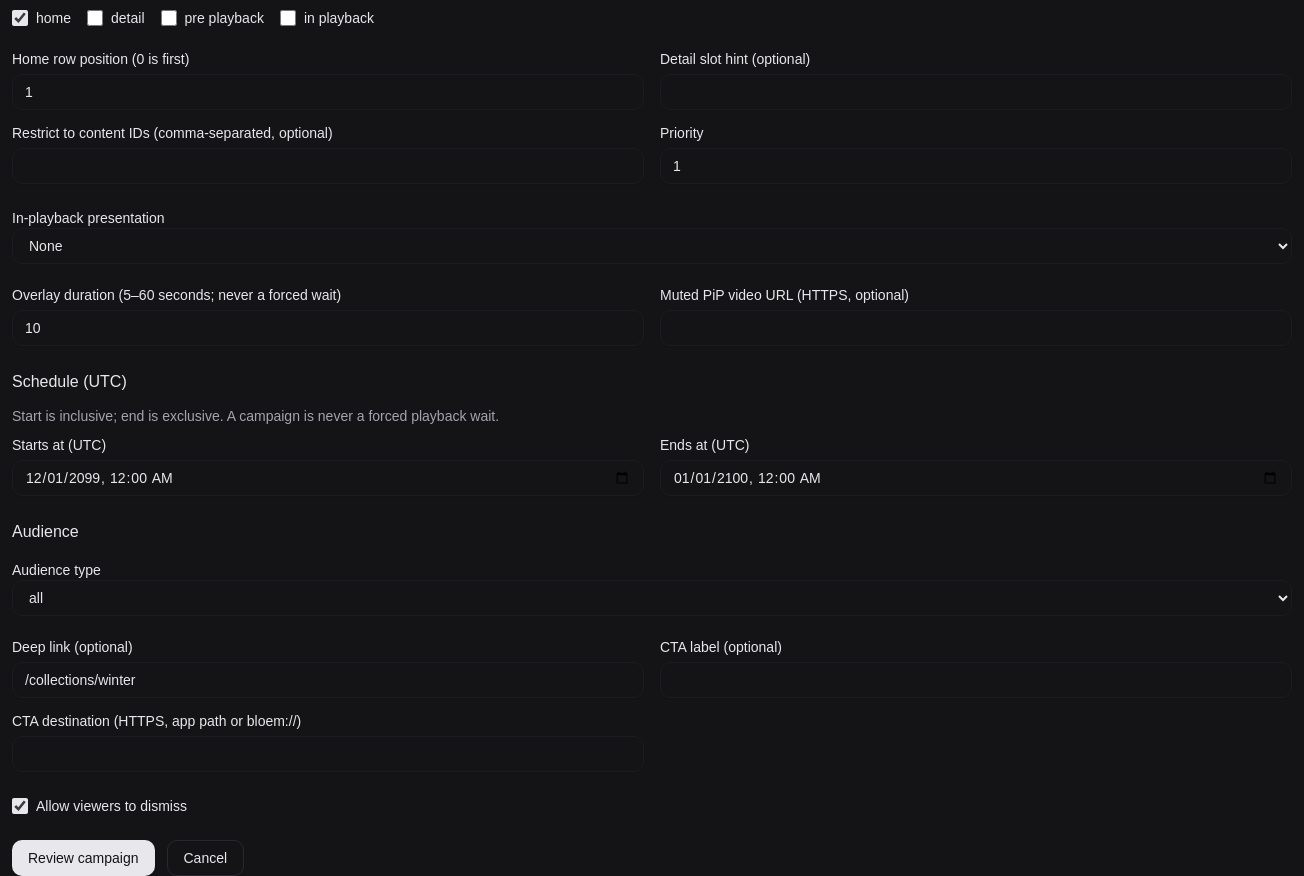
Test case: typed campaign authoring › invalidates review after changing the draft and forbids non-dismissible overlays
(page scrolled)
Step 1. Click the button "Review campaign" → (83, 858), box left=12, top=840, right=154, bottom=875
(page scrolled)
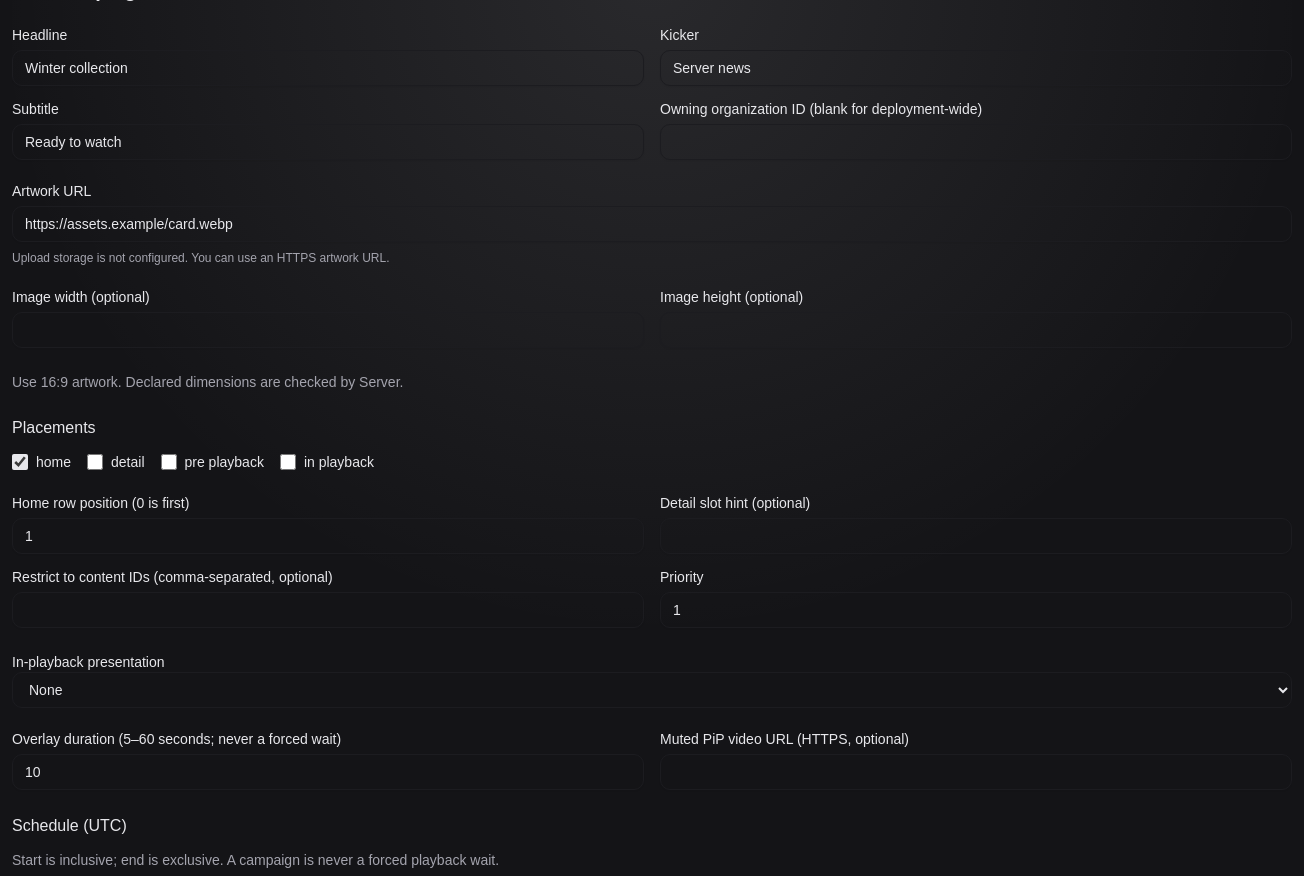
Step 2. Replace the text in the field labelled "Headline" with "Updated" → (328, 68), box left=12, top=50, right=644, bottom=86
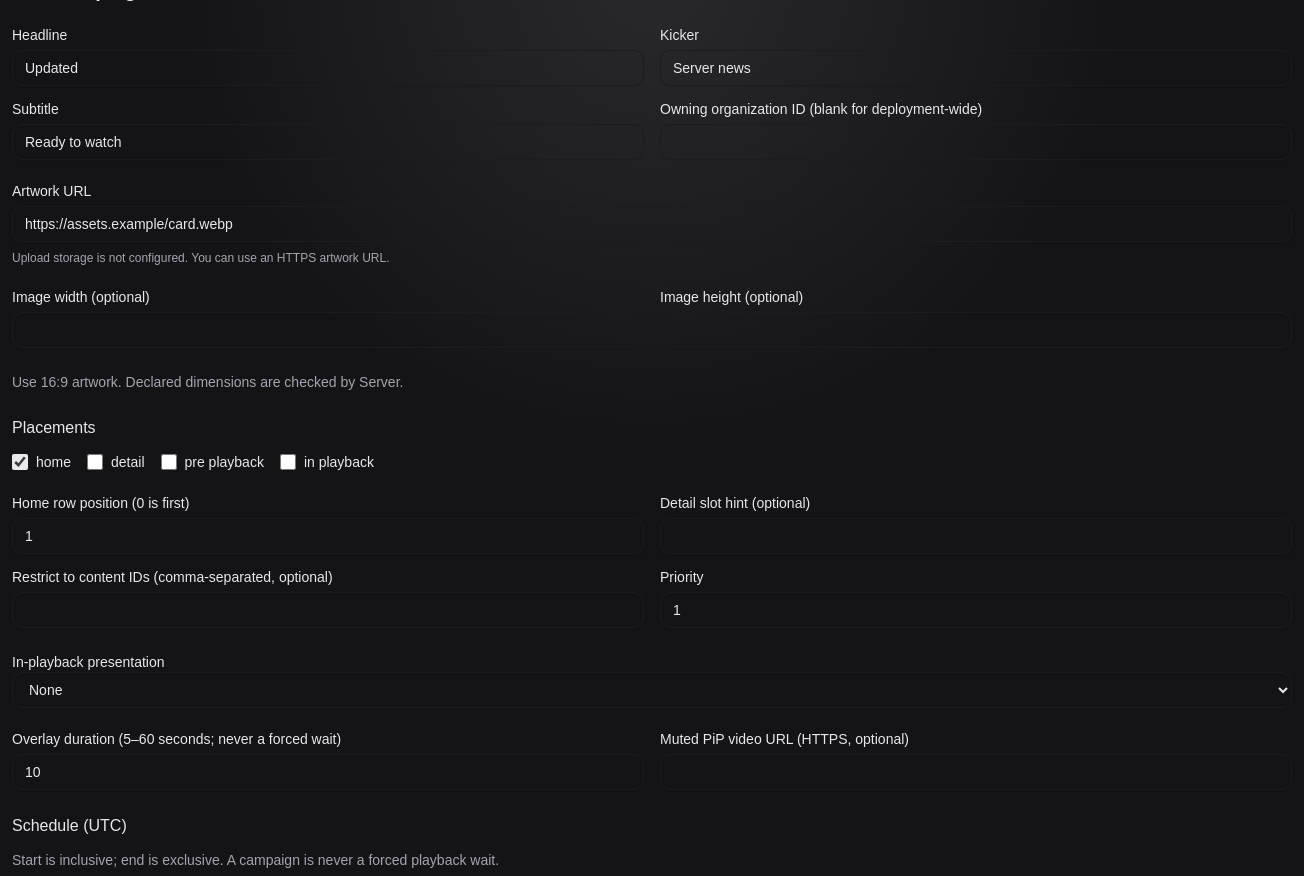
Step 3. Click the checkbox labelled "in playback" → (288, 462), box left=280, top=454, right=296, bottom=470
(page scrolled)
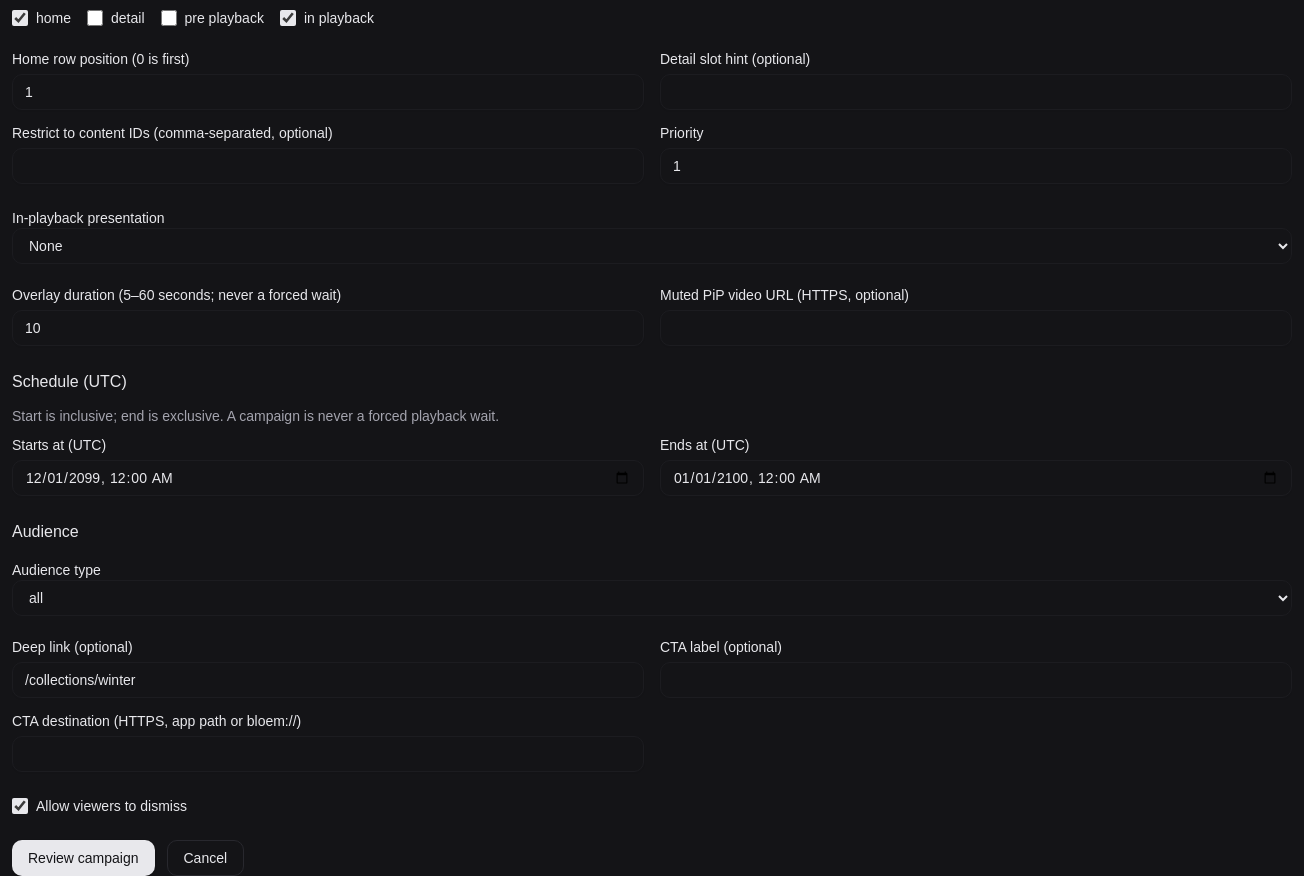
Step 4. Click the checkbox labelled "Allow viewers to dismiss" → (20, 806), box left=12, top=798, right=28, bottom=814
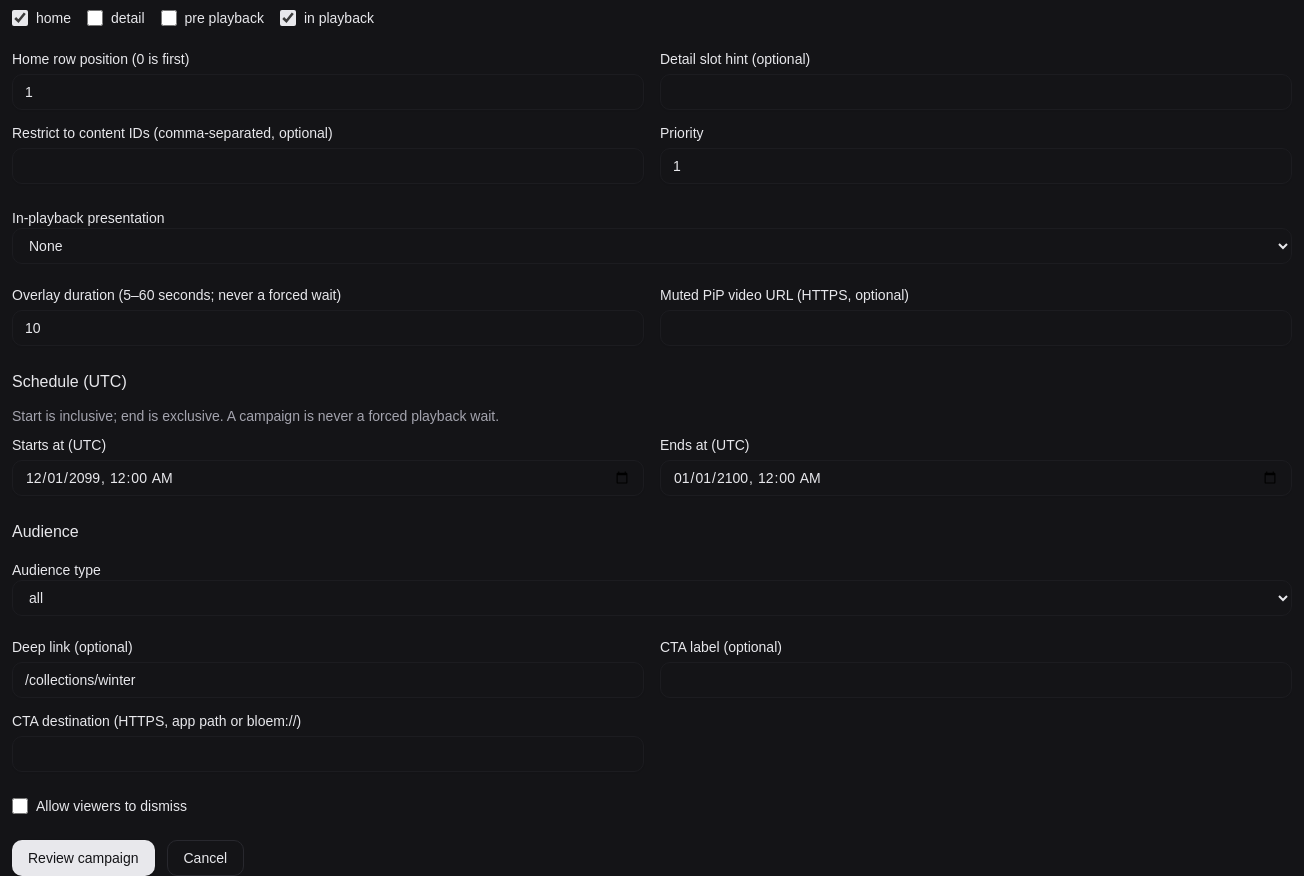
Step 5. Click the button "Review campaign" → (83, 858), box left=12, top=840, right=154, bottom=875
(page scrolled)
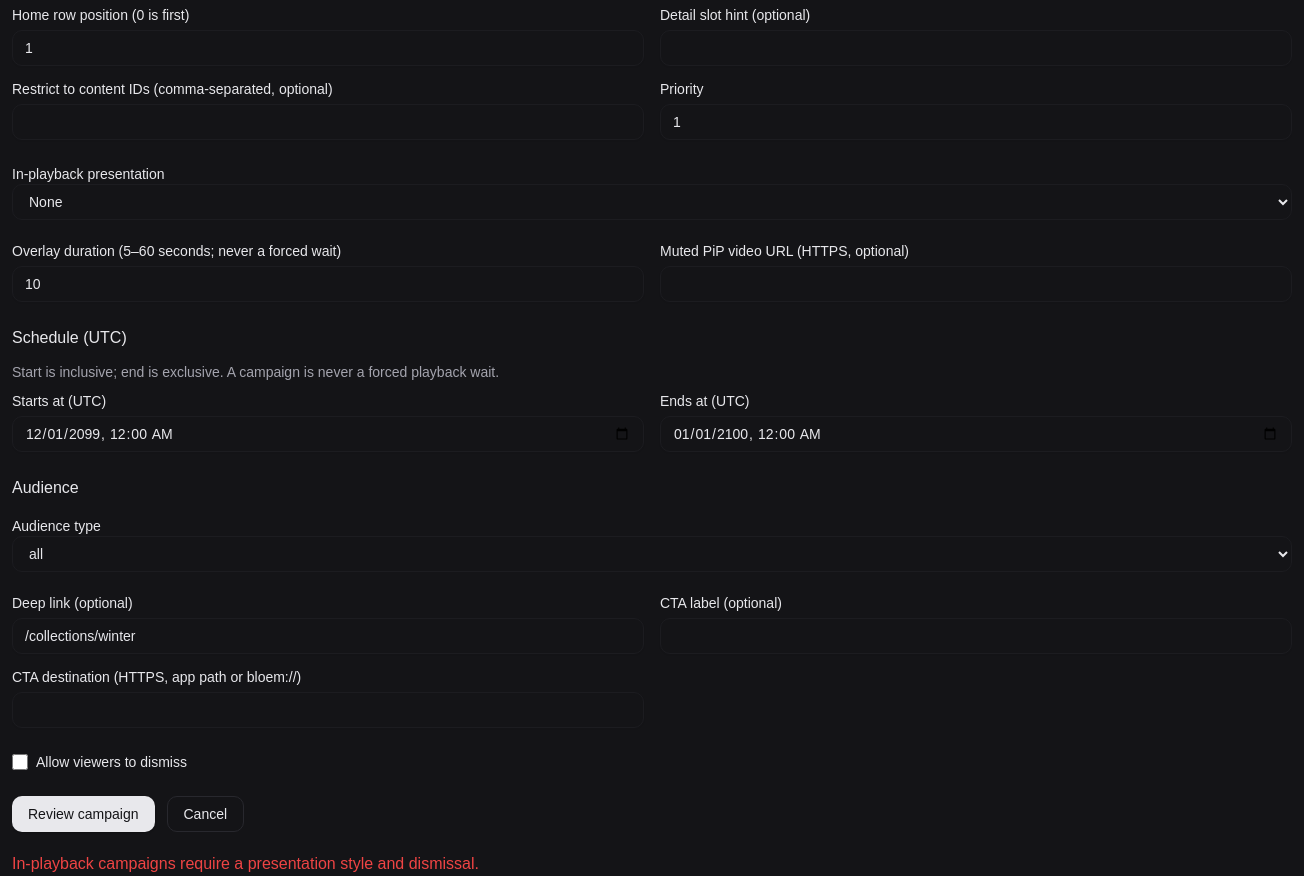
expect the message shows "In-playback campaigns require": met, box left=12, top=855, right=479, bottom=872
